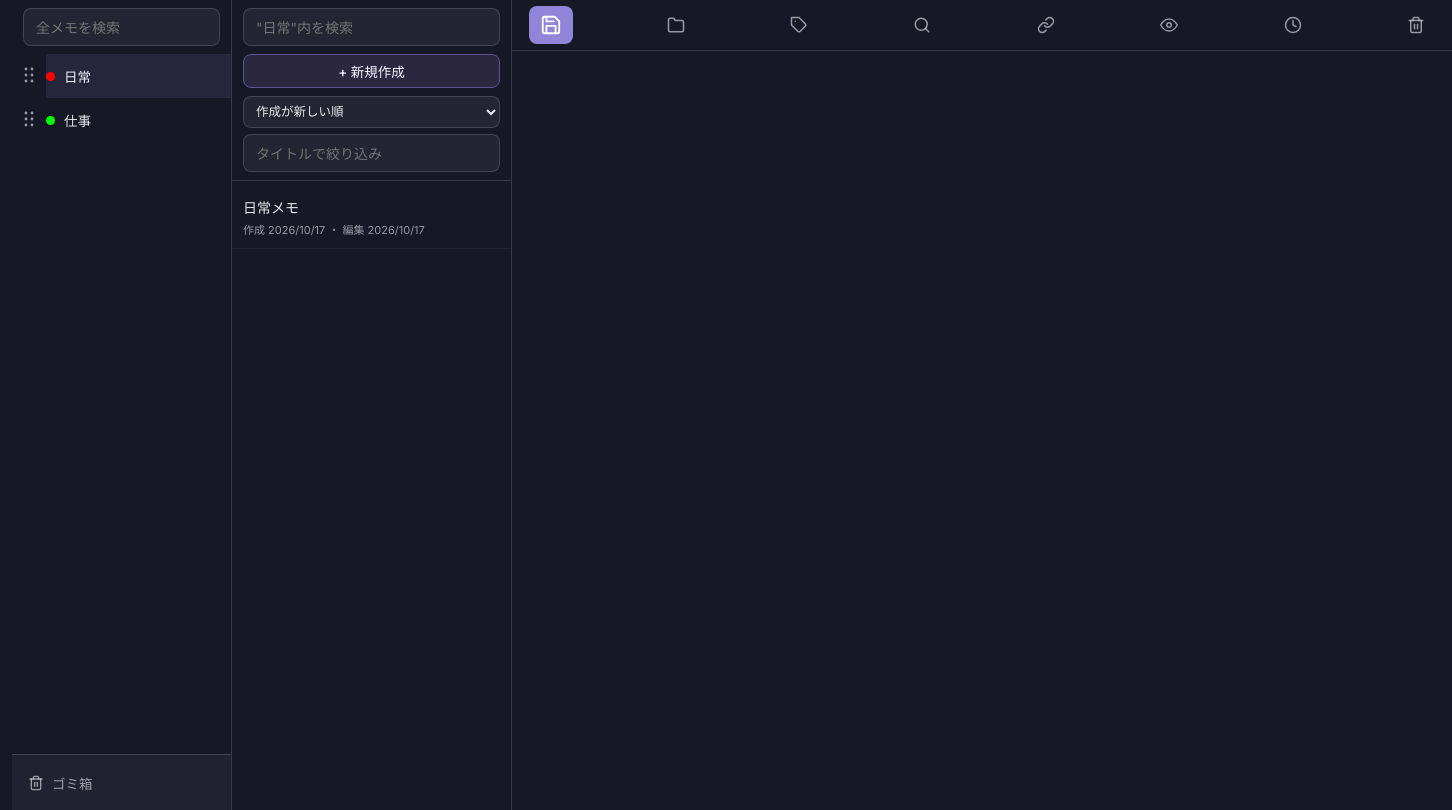
Test: App startup › updates selectedFolderRef immediately upon folder selection to prevent race conditions during background sync
Press the mouse on the element with test id "swipe-container": (732,405) [12,0,1451,809]
Press the mouse on the element with test id "swipe-container": (732,405) [12,0,1451,809]
Click the button with class "folder-select-btn" showing "仕事": (138,120) [46,98,231,142]
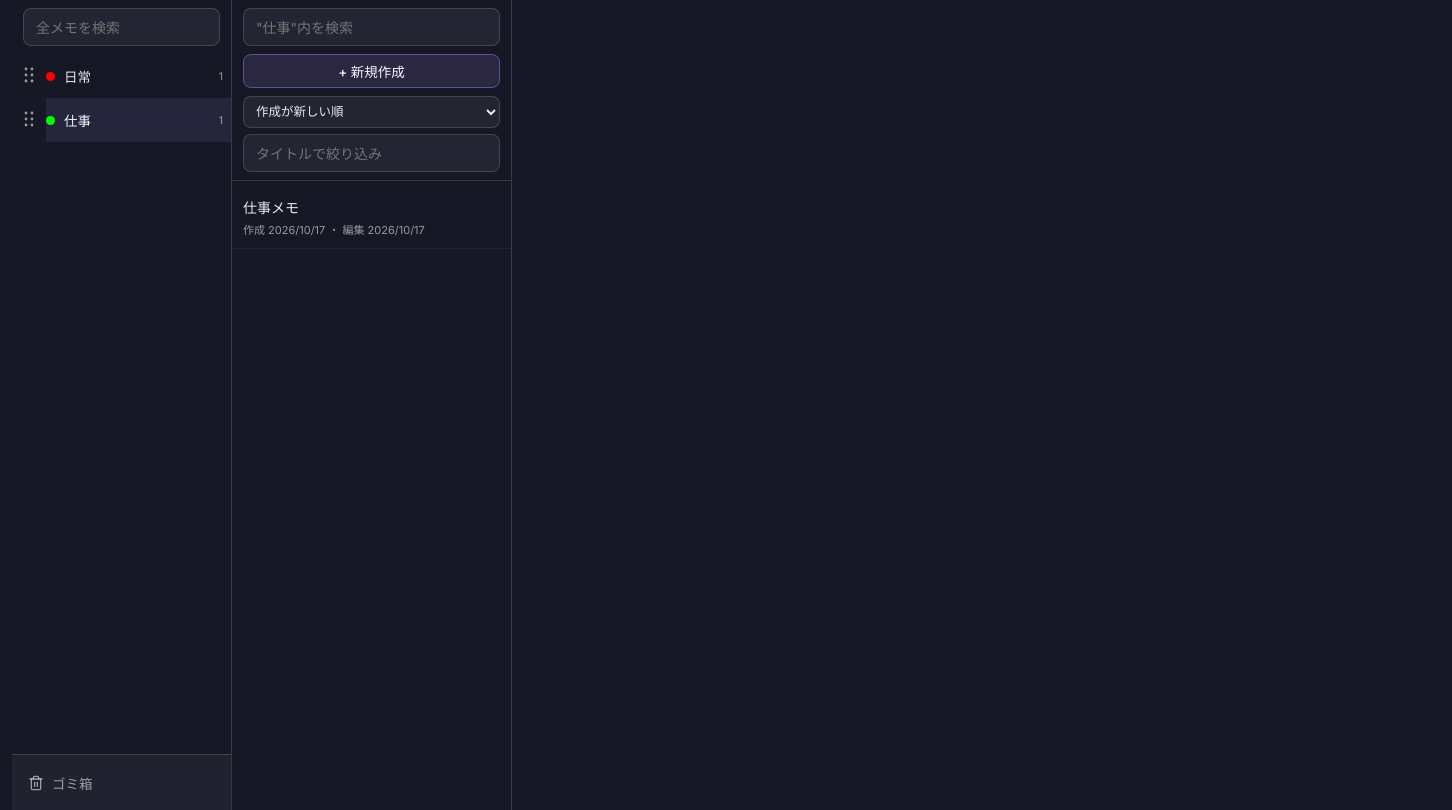
Check: the text "仕事メモ" is shown, box [243,199,299,216]
Check: the button "日常メモ" is gone
